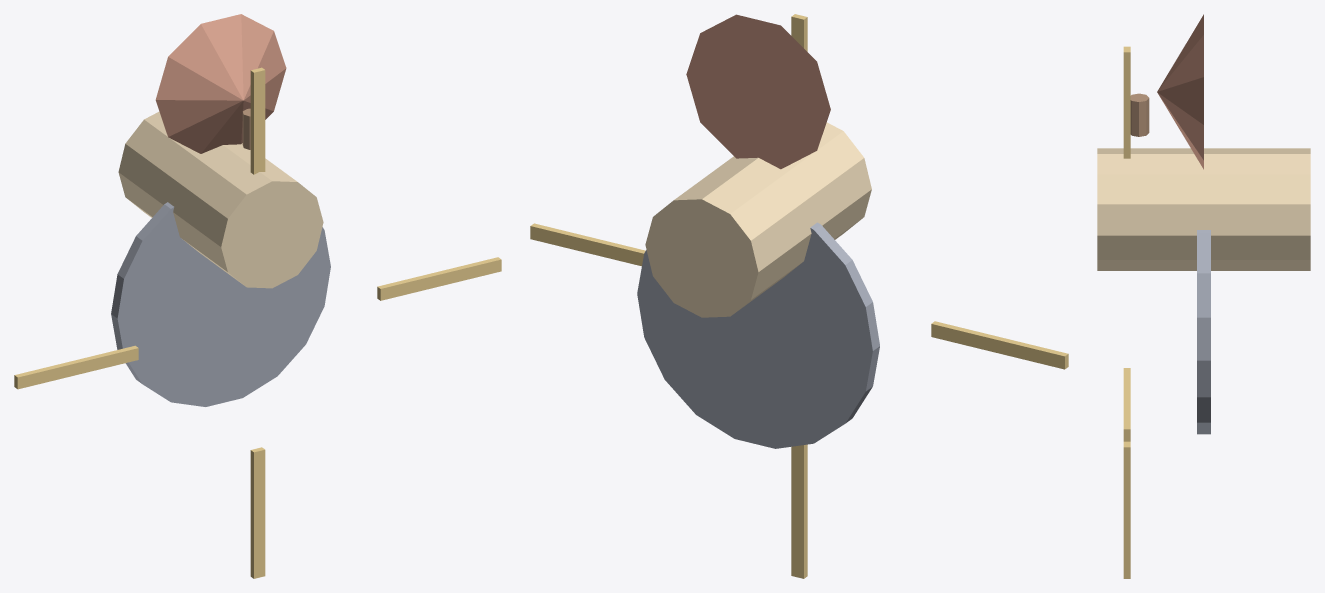
Rendered from hero_wind_shrine.glb.
The picture shows the model from 3 angles, left to right: view 1: azimuth 30°, elevation 25°; view 2: azimuth 150°, elevation 25°; view 3: azimuth 270°, elevation 25°; orthographic projection. The views are drawn at different scales.
Visible parts, largest first — view 1: world; view 2: world; view 3: world.
Boxes of the visible parts, left/top/right/bottom form: world: left=14, top=14, right=501, bottom=578; world: left=530, top=14, right=1068, bottom=578; world: left=1097, top=14, right=1310, bottom=578.
Size of the model in its own units: 6.8 by 7.12 by 2.5.
